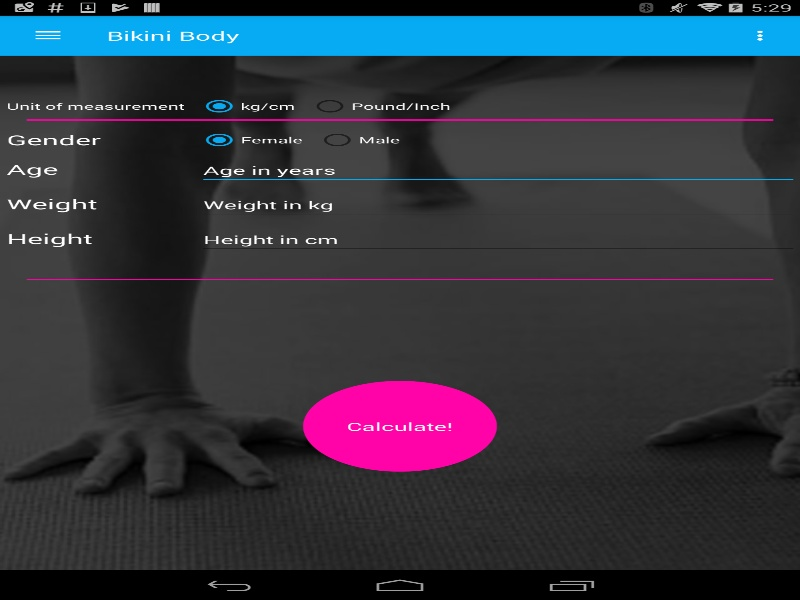Button: (300, 379, 500, 473), (10, 15, 85, 55)
